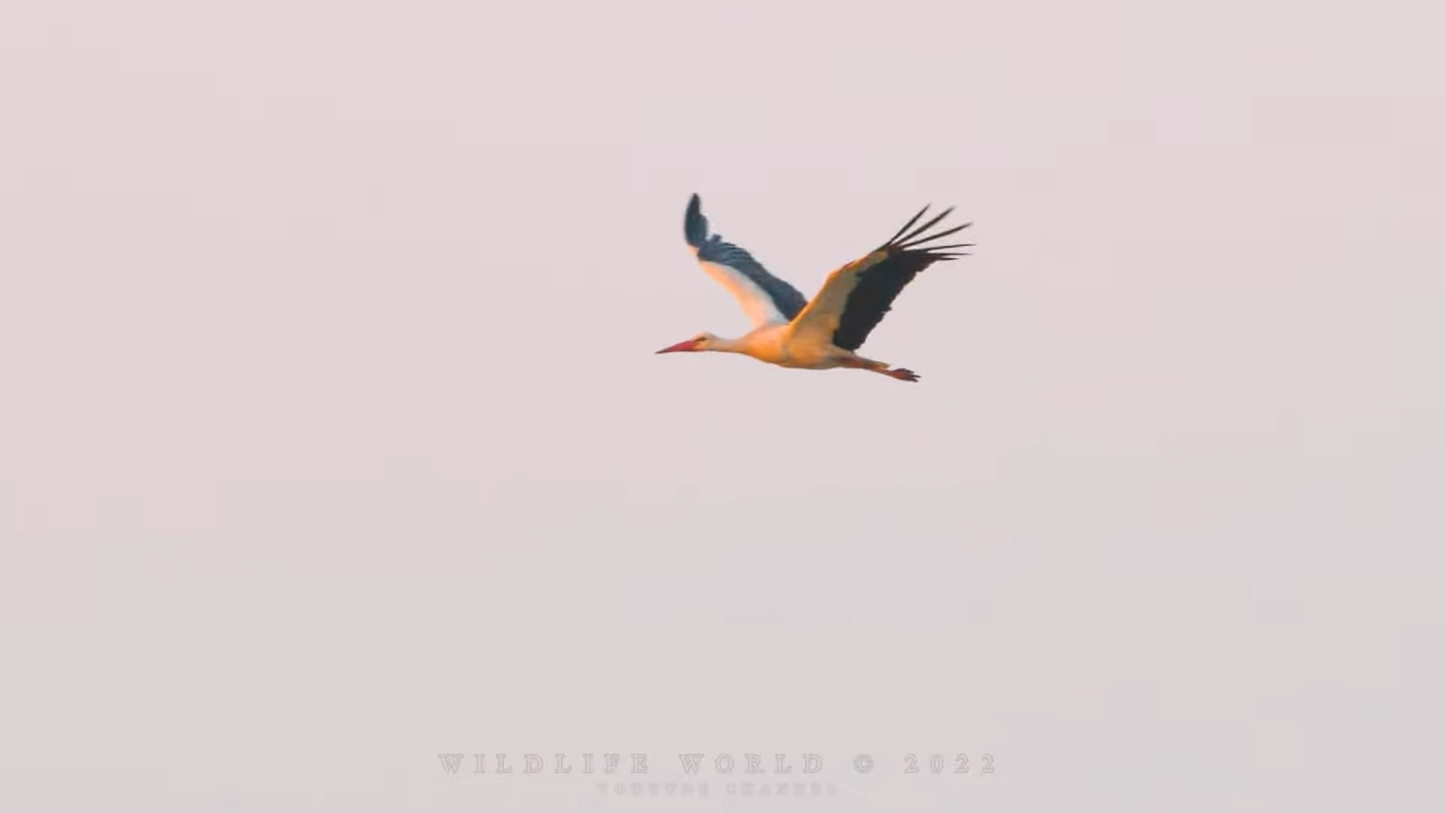not_drone: (654, 187, 977, 399)
